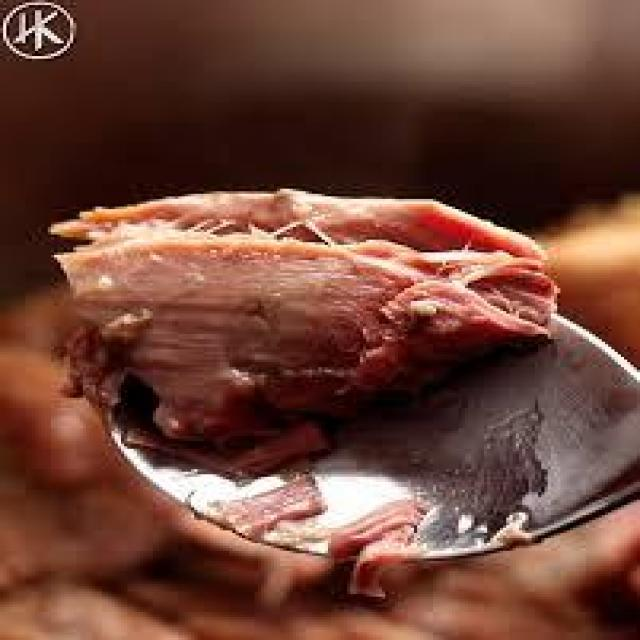Beef: (37, 165, 580, 410)
